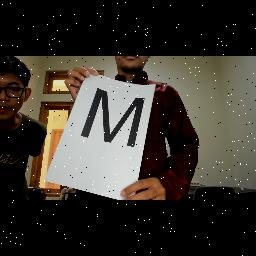m: (78, 87, 150, 155)
